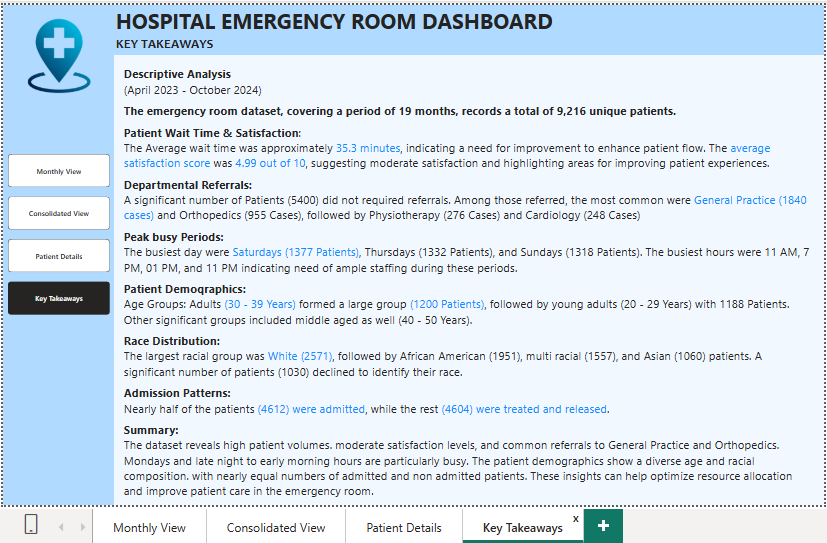

What the dashboard file says about the page in this screenshot:
{"tool":"powerbi","page":{"name":"Key Takeaways","canvas":[2300,1400],"ordinal":3},"visuals":[{"type":"shape","box":[310.8,0,1988,140],"z":0},{"type":"shape","box":[0,0,310.8,1400],"z":1000},{"type":"textbox","box":[310.8,78.4,383.6,61.6],"z":2000},{"type":"textbox","box":[311.6,0,1243.2,89.9],"z":3000},{"type":"image","box":[25.2,33.6,263.2,218.4],"z":4000},{"type":"textbox","box":[334.1,163.8,1937,1236.7],"z":5000},{"type":"pageNavigator","box":[14,417.2,285.6,450.8],"z":6000}]}

Visuals, with their boxes on the page's 2300x1400 design canvas (x1, y1, x2, y2). These are canvas units, not pixel positions in the 827x543 screenshot, which may show the page scaled, cropped or inside an application window:
shape: {"x1": 311, "y1": 0, "x2": 2299, "y2": 140}
shape: {"x1": 0, "y1": 0, "x2": 311, "y2": 1400}
textbox: {"x1": 311, "y1": 78, "x2": 694, "y2": 140}
textbox: {"x1": 312, "y1": 0, "x2": 1555, "y2": 90}
image: {"x1": 25, "y1": 34, "x2": 288, "y2": 252}
textbox: {"x1": 334, "y1": 164, "x2": 2271, "y2": 1400}
pageNavigator: {"x1": 14, "y1": 417, "x2": 300, "y2": 868}
